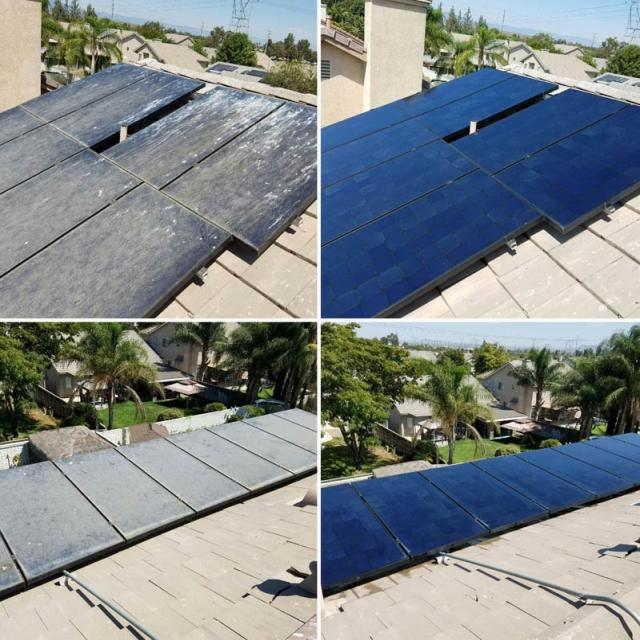clean-solar-panel: (322, 69, 639, 318), (322, 434, 639, 594)
